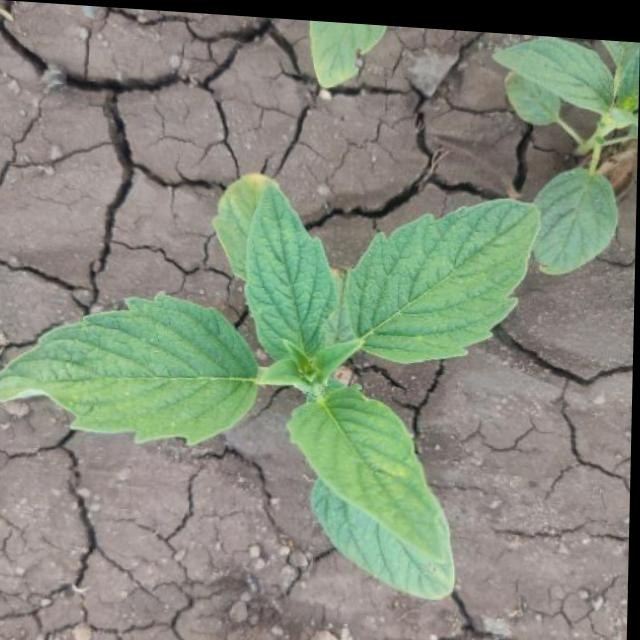crop: (0, 139, 549, 610)
